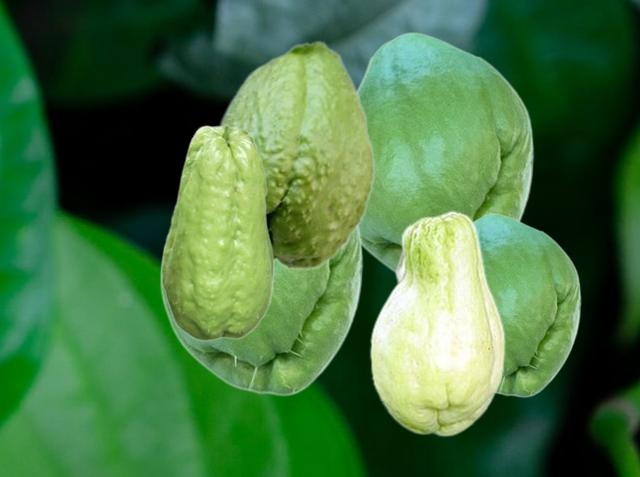sayote: (357, 32, 533, 272), (218, 39, 375, 270), (159, 228, 362, 396), (369, 210, 504, 436), (160, 124, 274, 341), (474, 213, 580, 397)
